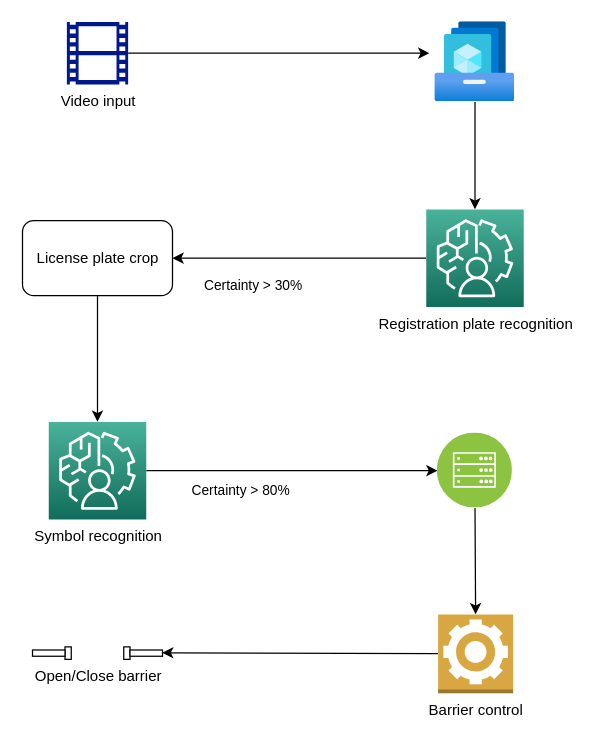
This 594x740 diagram has some shape labels left out. Each missing label, with the centre of its shape:
"Backend server" goes at (474,470).
"Video converted to frames" goes at (474,61).
